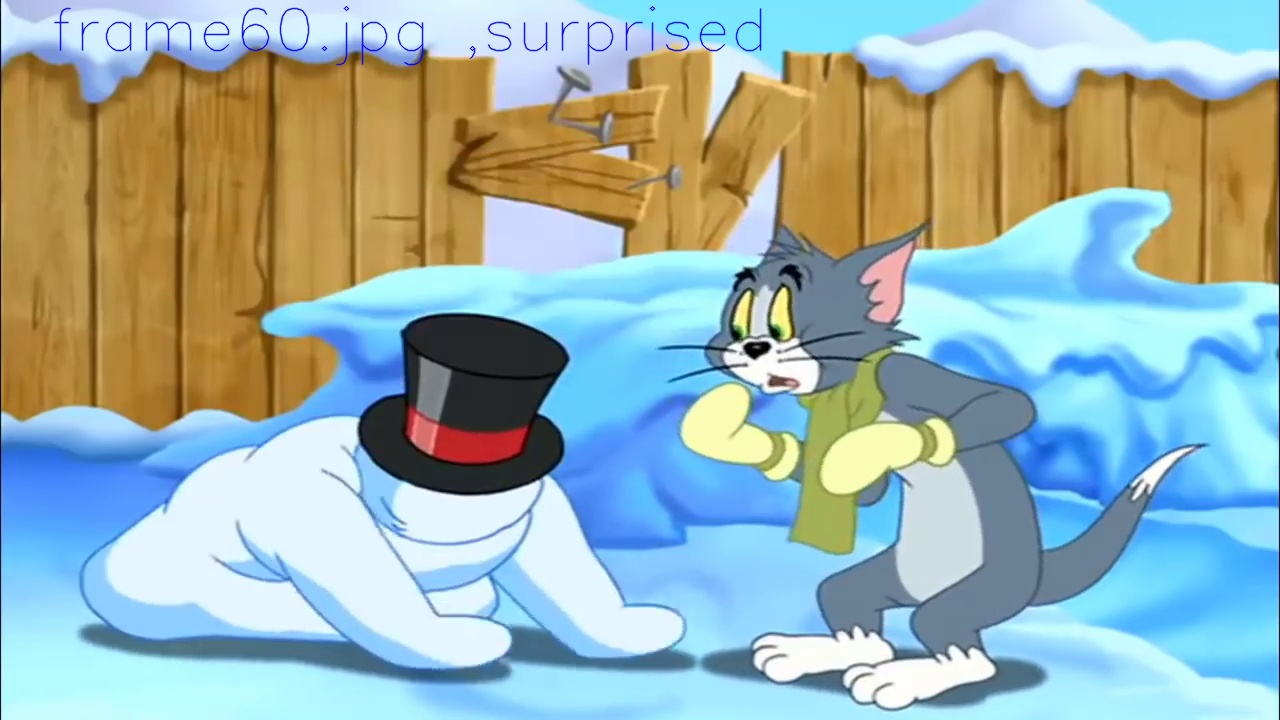surprised: (728, 267, 811, 396)
